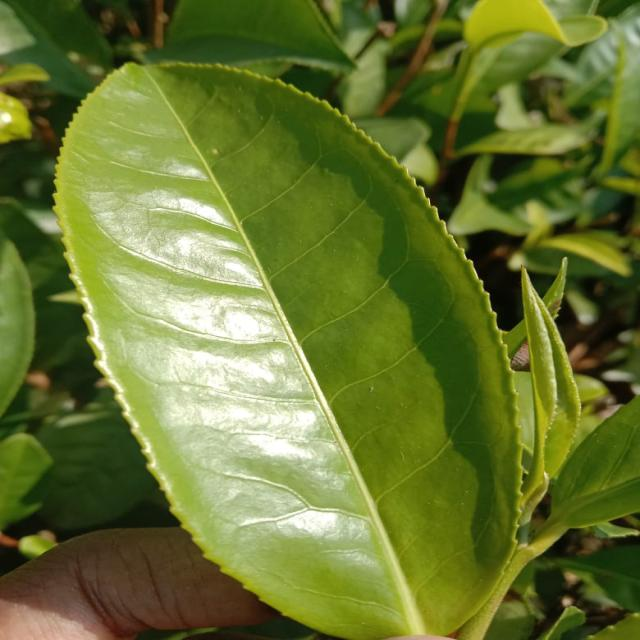Category B(2-4 days): (41, 47, 532, 638)
